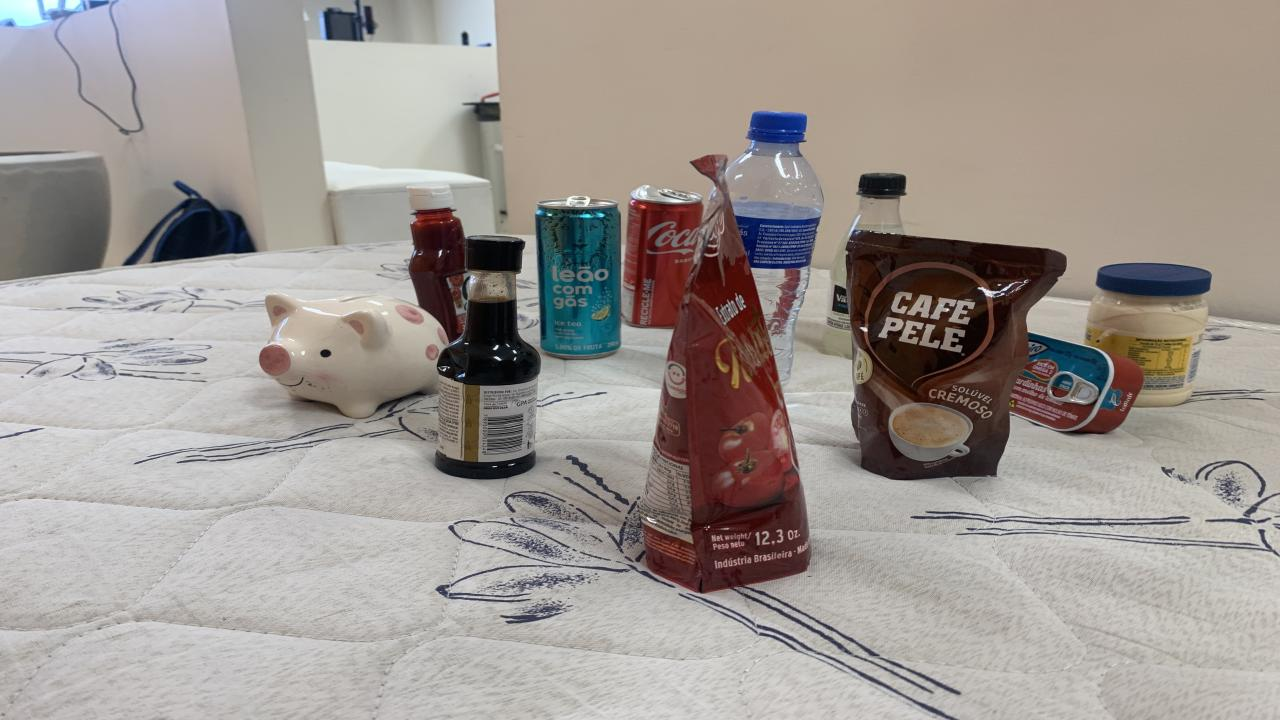Coffee-Pantry_Items: (848, 231, 1065, 480)
Coke-Drinks: (622, 186, 702, 328)
English_Sauce-Pantry_Items: (435, 236, 540, 478)
Ketchup-Pantry_Items: (408, 184, 465, 339)
Mayonnaise-Pantry_Items: (1085, 262, 1210, 407)
Pig_Safe-Miscellaneous: (260, 292, 448, 418)
Soda-Drinks: (822, 172, 905, 358)
Tea-Drinks: (535, 197, 620, 358)
Tomato_Sauce-Pantry_Items: (640, 156, 810, 592)
Tuna_Can-Pantry_Items: (1010, 334, 1145, 433)
Water_Bottle-Drinks: (725, 111, 822, 384)
